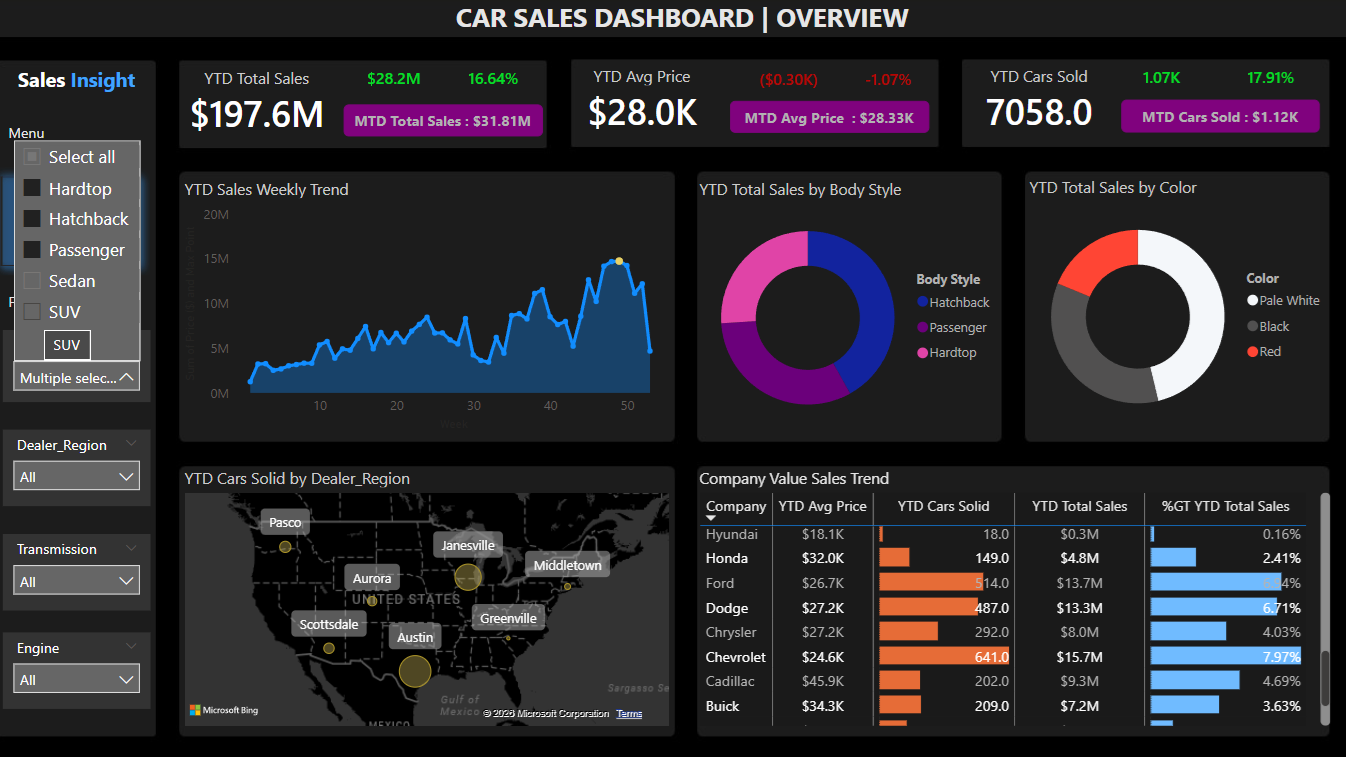

This screenshot's page, from the dashboard's own definition file:
{"tool":"powerbi","page":{"name":"Overview","canvas":[1280,720],"ordinal":0},"visuals":[{"type":"card","title":"YTD Total Sales","fields":{"Values":["car_data.YTD Total Sales"]},"box":[186.1,68,145,66.7],"z":0},{"type":"card","fields":{"Values":["car_data.Sales Difference"]},"box":[340.1,66.7,93.7,29.5],"z":1000},{"type":"card","fields":{"Values":["car_data.YoY Sales Growth"]},"box":[433.7,66.7,93.7,29.5],"z":2000},{"type":"card","fields":{"Values":["car_data.MTD KPI"]},"box":[340.5,103.4,186.5,30.3],"z":3000},{"type":"card","title":"YTD Avg Price","fields":{"Values":["car_data.YTD Avg Price"]},"box":[551.8,66.3,136,67.4],"z":4000},{"type":"card","fields":{"Values":["car_data.Avg Price Diff"]},"box":[710.2,66.3,93.3,30.3],"z":5000},{"type":"card","fields":{"Values":["car_data.YoY Avg Price Growth"]},"box":[803.5,66.3,93.3,30.3],"z":6000},{"type":"card","fields":{"Values":["car_data.MTD Avg Price KPI"]},"box":[702.4,100,186.5,30.3],"z":7000},{"type":"card","title":"YTD Cars Sold","fields":{"Values":["car_data.YTD Cars Solid"]},"box":[923.7,66.3,136,67.4],"z":8000},{"type":"card","fields":{"Values":["car_data.Cars Sold Diff"]},"box":[1059.7,65.2,93.3,30.3],"z":9000},{"type":"card","fields":{"Values":["car_data.YoY Car Solid Growth"]},"box":[1162,65.2,93.3,30.3],"z":10000},{"type":"card","fields":{"Values":["car_data.MTD Cars Sold KPI"]},"box":[1068.6,99.2,186,30.4],"z":11000},{"type":"areaChart","title":"YTD Sales Weekly Trend","fields":{"Category":["Calendar Table.Week"],"Y":["Sum(car_data.Price ($))","car_data.Max Point"]},"box":[186.5,172,463.1,242.1],"z":12000},{"type":"donutChart","fields":{"Category":["car_data.Body Style"],"Y":["car_data.YTD Total Sales"]},"box":[668.1,172,291.1,243.4],"z":13000},{"type":"donutChart","fields":{"Category":["car_data.Color"],"Y":["car_data.YTD Total Sales"]},"box":[977.7,170.7,291.1,243.4],"z":14000},{"type":"map","fields":{"Category":["car_data.Dealer_Region"],"Size":["car_data.YTD Cars Solid"]},"box":[186.5,443.2,463.1,247.4],"z":15000},{"type":"tableEx","title":"Company Value Sales Trend","fields":{"Values":["car_data.Company","car_data.YTD Avg Price","car_data.YTD Cars Solid","car_data.YTD Total Sales1","car_data.YTD Total Sales"]},"box":[668.6,442.7,600.6,247.7],"z":16000},{"type":"textbox","box":[425.9,0,463,48.3],"z":16001},{"type":"slicer","fields":{"Values":["car_data.Body Style"]},"box":[21.4,314.7,138.2,67.4],"z":16002},{"type":"slicer","fields":{"Values":["car_data.Dealer_Region"]},"box":[21.4,407.9,138.2,71.9],"z":16003},{"type":"slicer","fields":{"Values":["car_data.Transmission"]},"box":[21.4,505.7,138.2,71.9],"z":16004},{"type":"slicer","fields":{"Values":["car_data.Engine"]},"box":[21.4,597.8,138.2,71.9],"z":16005},{"type":"textbox","box":[21.4,274.2,95.5,37.1],"z":16006},{"type":"textbox","box":[15.7,61.8,149.5,34.8],"z":16007},{"type":"textbox","box":[21.4,115.7,95.5,37.1],"z":16008},{"type":"pageNavigator","box":[10.1,161.8,149.5,102.3],"z":16009}]}

Visuals, with their boxes in screenshot pixels (x1, y1, x2, y2), scaled from the page's 1280x720 canvas onto the 1346x757 screenshot:
"YTD Total Sales" card: [x1=196, y1=71, x2=348, y2=142]
card - car_data.Sales Difference: [x1=358, y1=70, x2=456, y2=101]
card - car_data.YoY Sales Growth: [x1=456, y1=70, x2=555, y2=101]
card - car_data.MTD KPI: [x1=358, y1=109, x2=554, y2=141]
"YTD Avg Price" card: [x1=580, y1=70, x2=723, y2=141]
card - car_data.Avg Price Diff: [x1=747, y1=70, x2=845, y2=102]
card - car_data.YoY Avg Price Growth: [x1=845, y1=70, x2=943, y2=102]
card - car_data.MTD Avg Price KPI: [x1=739, y1=105, x2=935, y2=137]
"YTD Cars Sold" card: [x1=971, y1=70, x2=1114, y2=141]
card - car_data.Cars Sold Diff: [x1=1114, y1=69, x2=1212, y2=100]
card - car_data.YoY Car Solid Growth: [x1=1222, y1=69, x2=1320, y2=100]
card - car_data.MTD Cars Sold KPI: [x1=1124, y1=104, x2=1319, y2=136]
"YTD Sales Weekly Trend" areaChart: [x1=196, y1=181, x2=683, y2=435]
donutChart - car_data.Body Style x car_data.YTD Total Sales: [x1=703, y1=181, x2=1009, y2=437]
donutChart - car_data.Color x car_data.YTD Total Sales: [x1=1028, y1=179, x2=1334, y2=435]
map - car_data.Dealer_Region x car_data.YTD Cars Solid: [x1=196, y1=466, x2=683, y2=726]
"Company Value Sales Trend" tableEx: [x1=703, y1=465, x2=1335, y2=726]
textbox: [x1=448, y1=0, x2=935, y2=51]
slicer - car_data.Body Style: [x1=23, y1=331, x2=168, y2=402]
slicer - car_data.Dealer_Region: [x1=23, y1=429, x2=168, y2=504]
slicer - car_data.Transmission: [x1=23, y1=532, x2=168, y2=607]
slicer - car_data.Engine: [x1=23, y1=629, x2=168, y2=704]
textbox: [x1=23, y1=288, x2=123, y2=327]
textbox: [x1=17, y1=65, x2=174, y2=102]
textbox: [x1=23, y1=122, x2=123, y2=161]
pageNavigator: [x1=11, y1=170, x2=168, y2=278]
